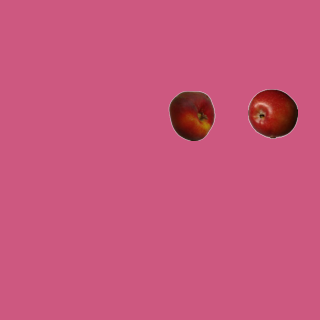Apple Braeburn: (247, 88, 297, 138)
Nectarine Flat: (166, 90, 216, 140)
